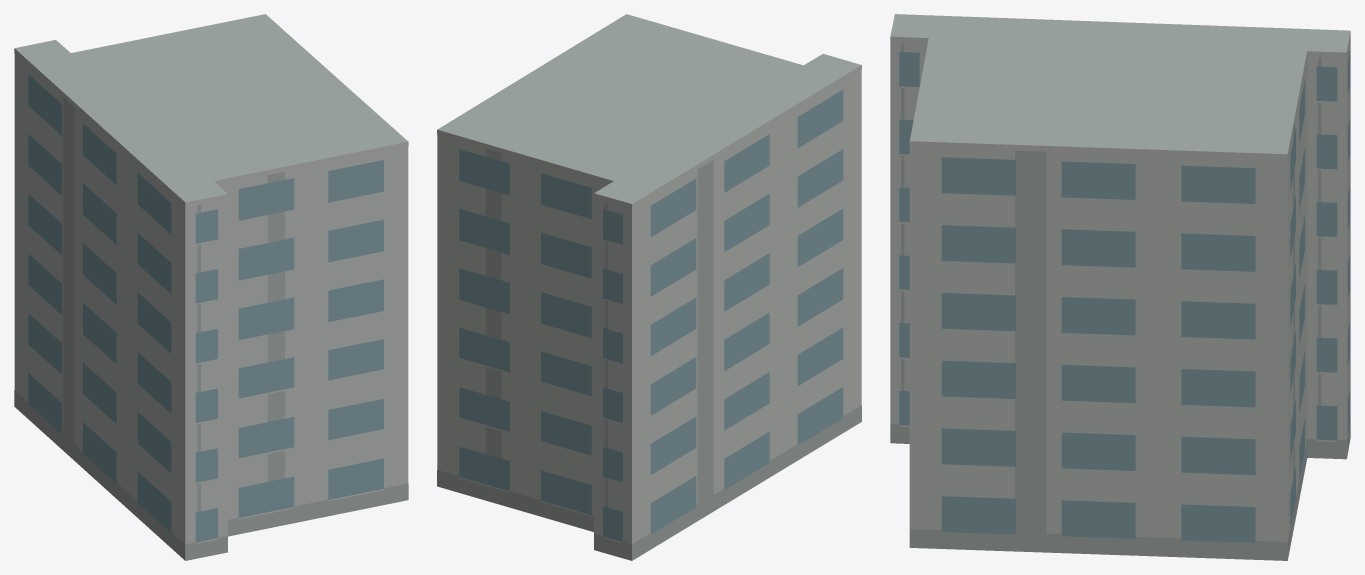
File: survey-upis-32540838.glb
3 views of the same model, side by side, from view 1: azimuth 30°, elevation 25°; view 2: azimuth 150°, elevation 25°; view 3: azimuth 270°, elevation 25° (orthographic). The views are drawn at different scales.
Visible parts, largest first — view 1: survey-upis-32540838.tmp; view 2: survey-upis-32540838.tmp; view 3: survey-upis-32540838.tmp.
Boxes of the visible parts, box(x1,y1,x2,y2) form: survey-upis-32540838.tmp: box(14, 14, 408, 560); survey-upis-32540838.tmp: box(437, 14, 861, 560); survey-upis-32540838.tmp: box(890, 14, 1350, 560).
Size of the model in its own units: 12.59 by 17 by 17.45.
